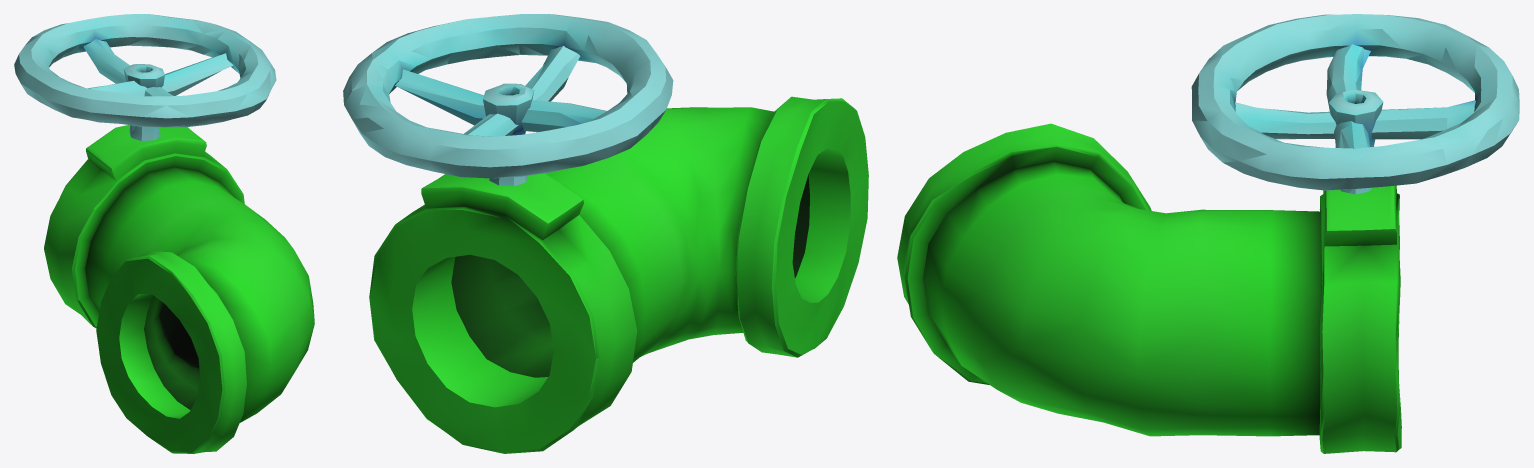
File: msh_item_Valve.FBX
3 renders of one model, left to right at view 1: azimuth 30°, elevation 25°; view 2: azimuth 150°, elevation 25°; view 3: azimuth 270°, elevation 25°, orthographic. The views are drawn at different scales.
Parts seen in each view (by area): view 1: msh_Item_ValvePipe, msh_Item_ValveValve; view 2: msh_Item_ValvePipe, msh_Item_ValveValve; view 3: msh_Item_ValvePipe, msh_Item_ValveValve.
Boxes of the visible parts, bbox=[...] form: msh_Item_ValvePipe: bbox=[44, 125, 314, 453]; msh_Item_ValveValve: bbox=[14, 14, 276, 140]; msh_Item_ValvePipe: bbox=[369, 96, 868, 453]; msh_Item_ValveValve: bbox=[343, 14, 673, 186]; msh_Item_ValvePipe: bbox=[897, 123, 1401, 453]; msh_Item_ValveValve: bbox=[1191, 14, 1519, 194].
Size of the model in its own units: 67.11 by 76.74 by 118.
